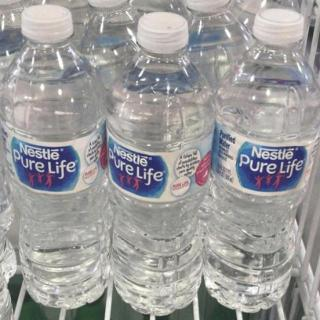Anorganik: (8, 4, 106, 310), (108, 6, 204, 314), (218, 9, 302, 314)
